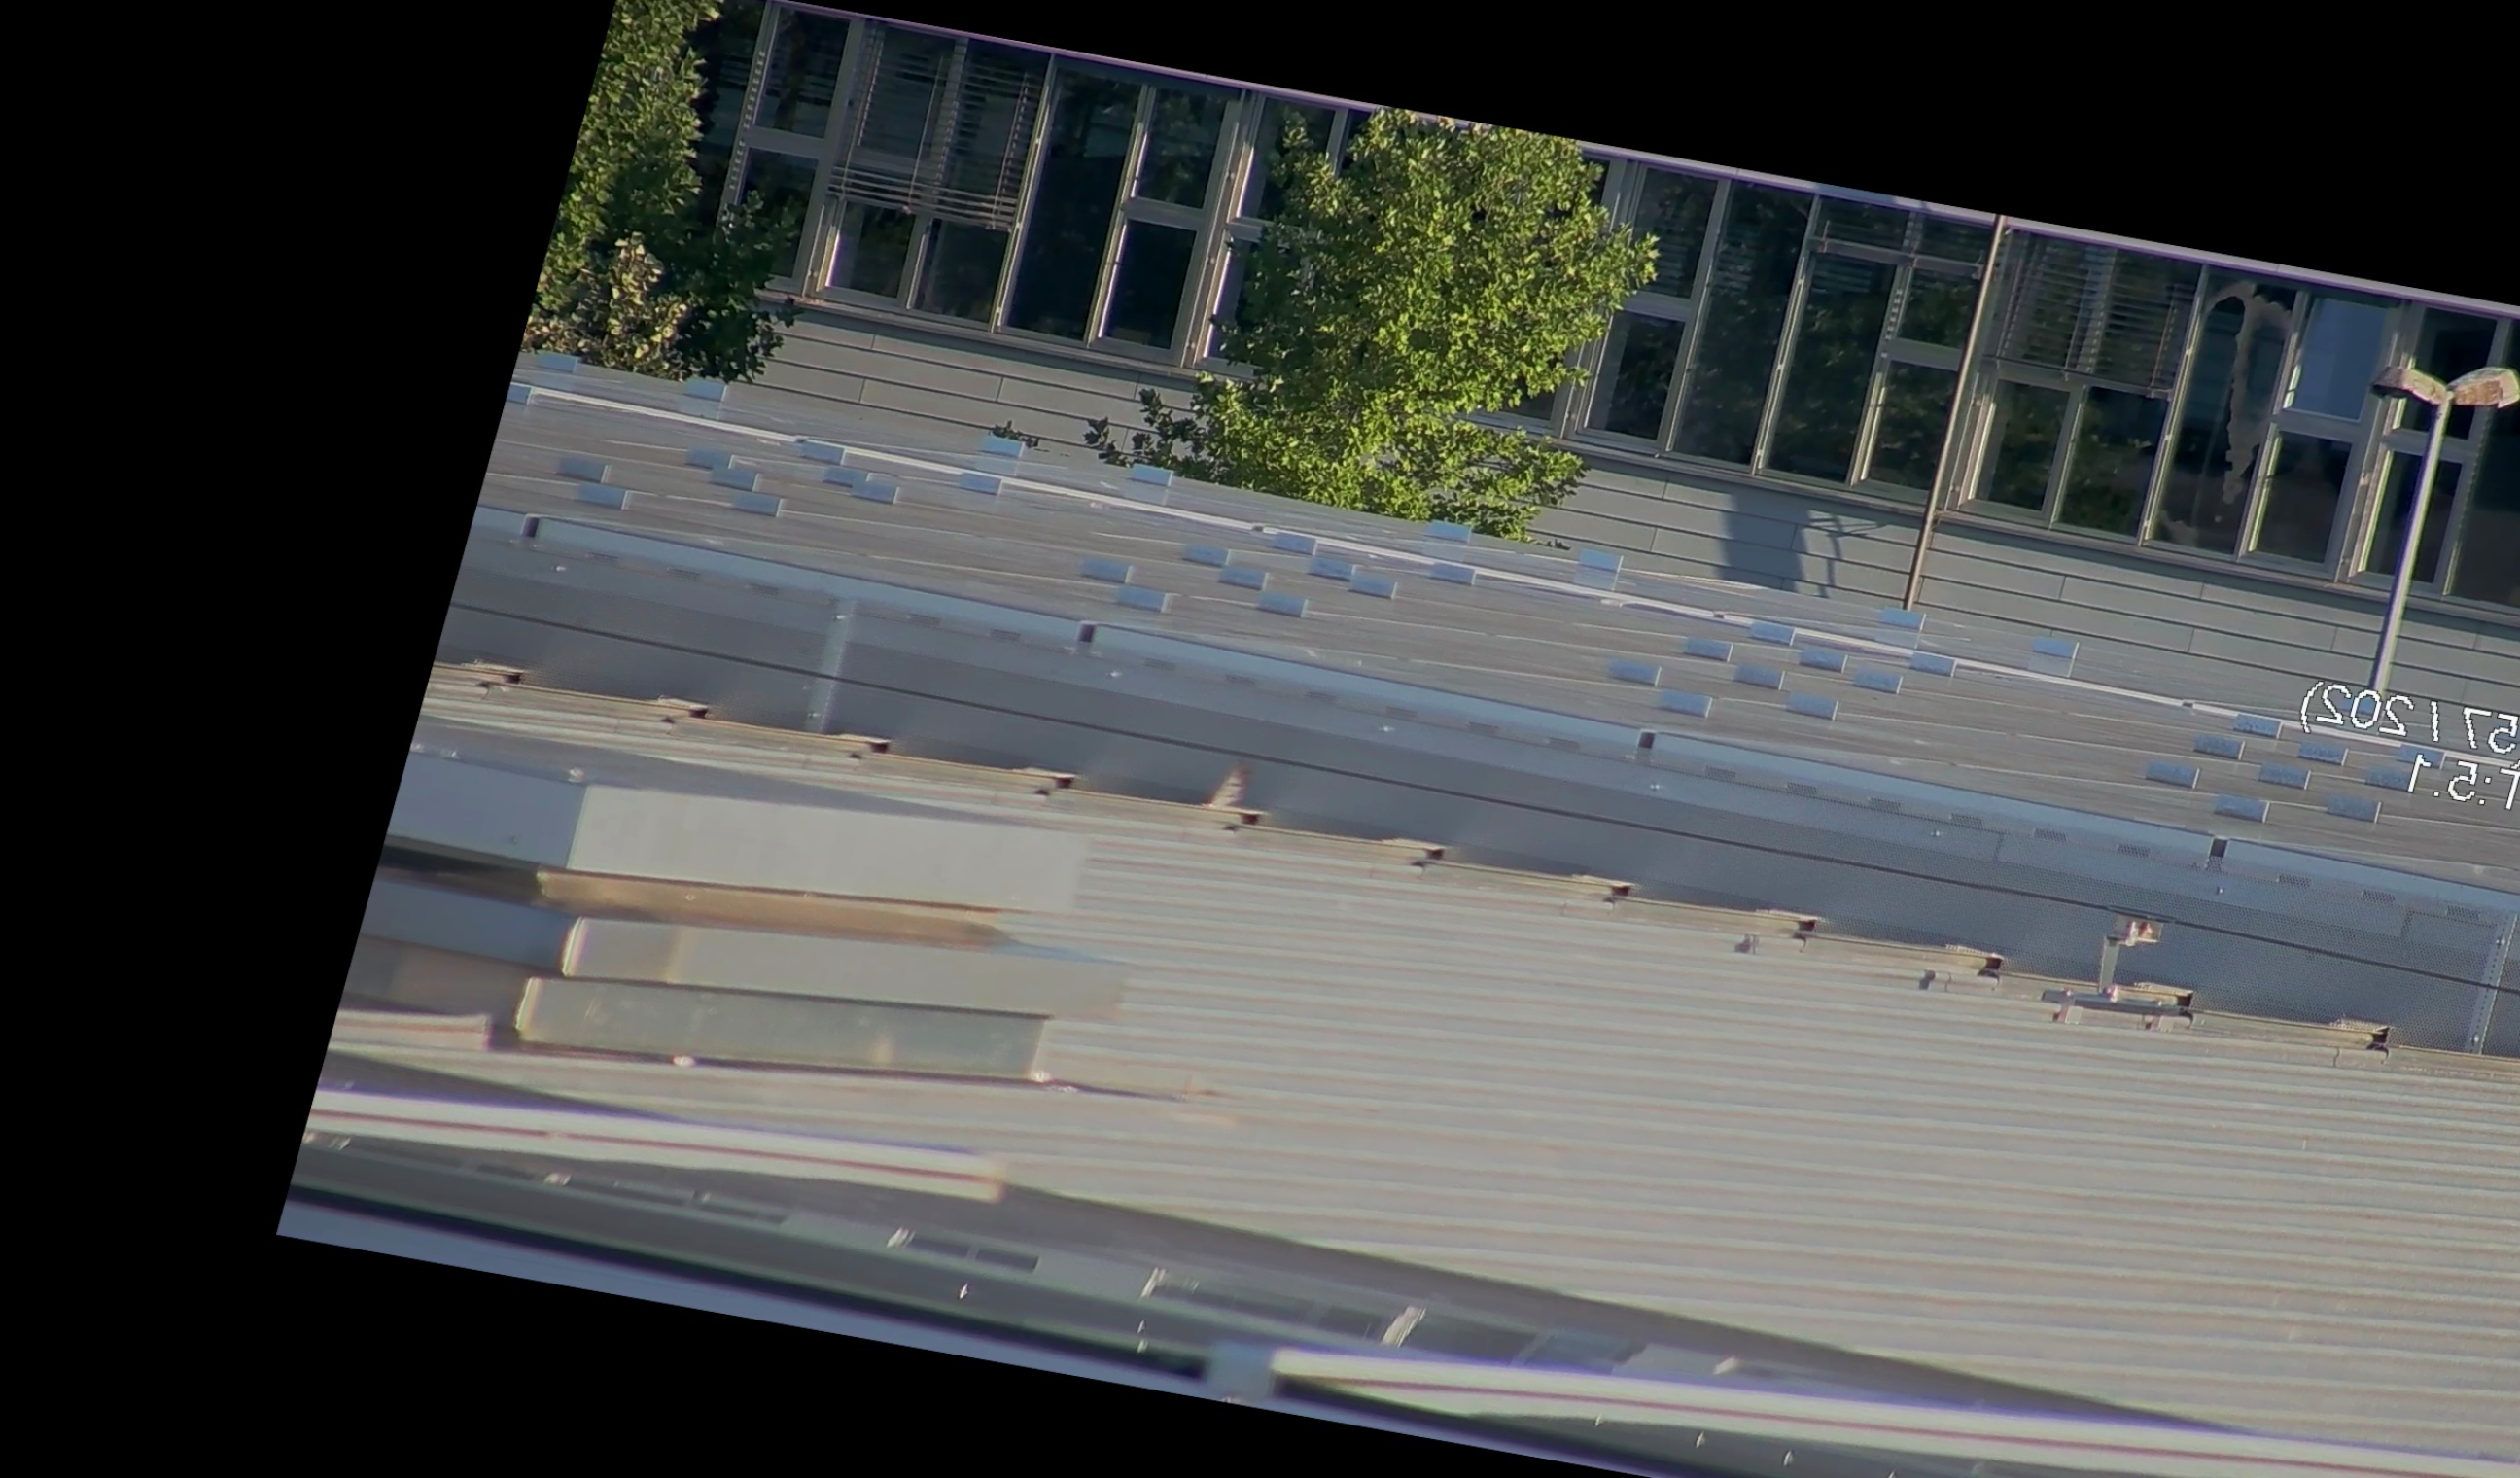Other: (1184, 746, 1277, 843)
